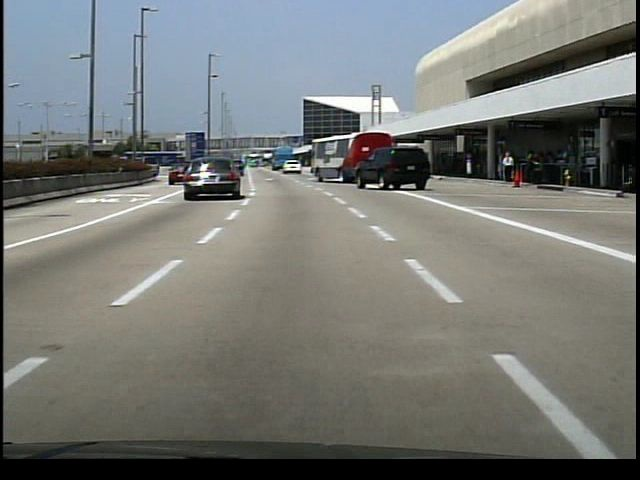person: (499, 151, 514, 186)
